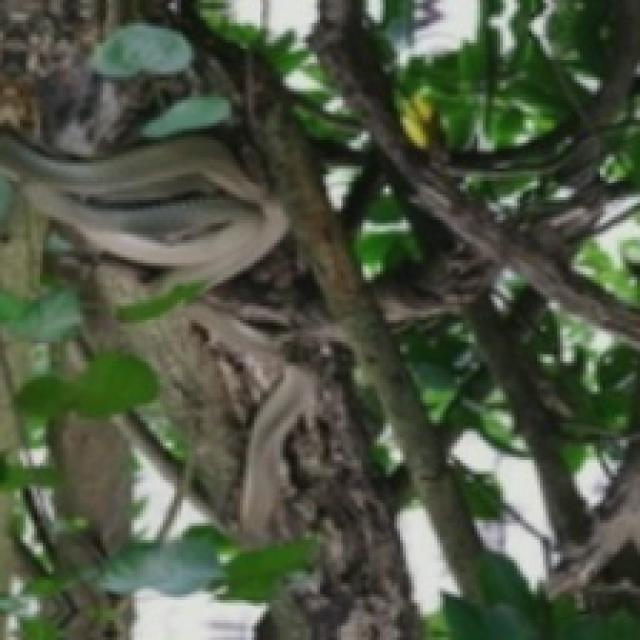king cobra: (0, 134, 286, 297), (0, 134, 286, 283), (203, 434, 289, 540)
